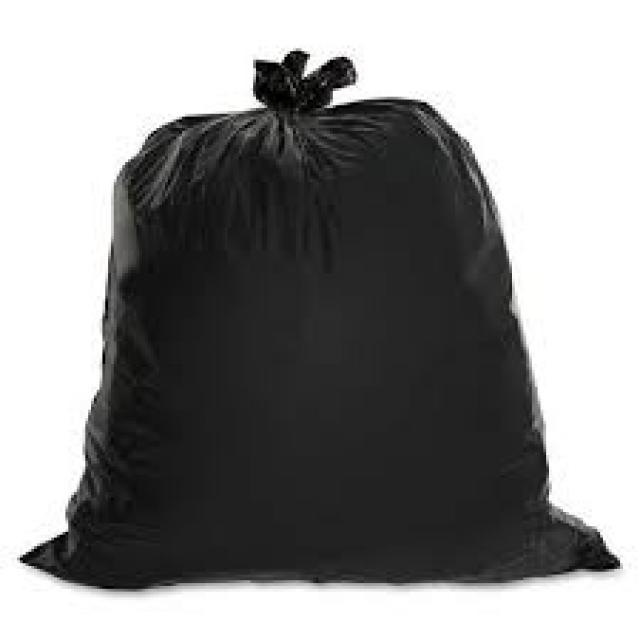plastic_bag: (44, 41, 542, 598)
